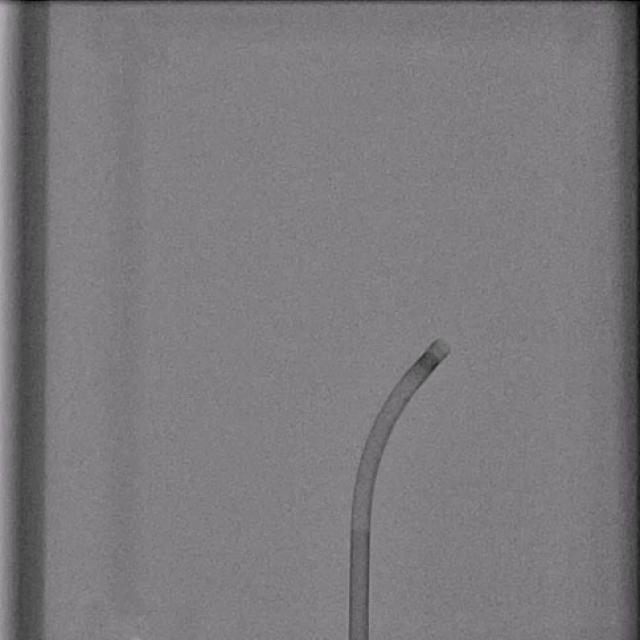bend: (350, 512, 370, 529)
entry: (349, 634, 369, 640)
marker: (418, 350, 440, 371)
tip: (438, 340, 452, 352)
